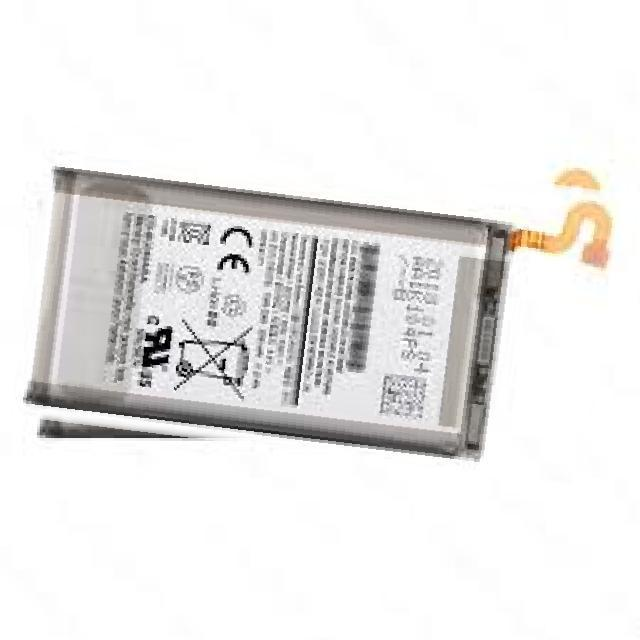Battery: (13, 155, 624, 470)
